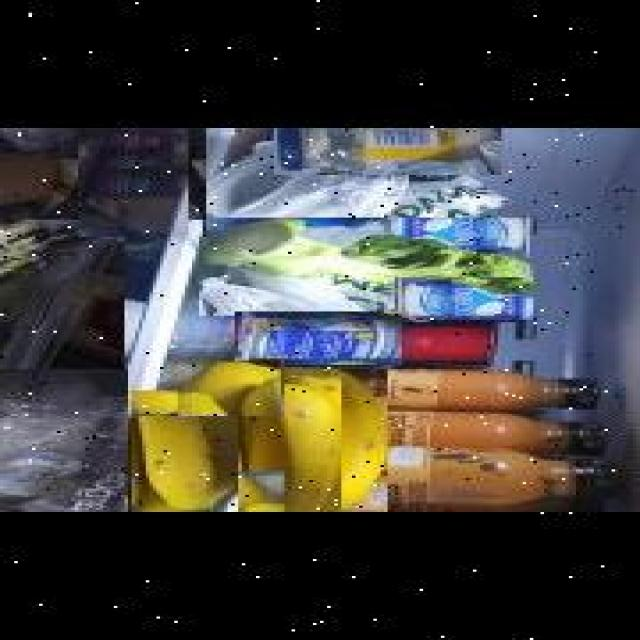asparagus: (0, 194, 164, 391)
banana: (274, 369, 384, 512), (128, 390, 245, 512), (235, 375, 338, 512), (173, 361, 279, 416)
broccoli: (196, 218, 534, 316)
cheese: (0, 369, 164, 512)
humus: (73, 128, 201, 237), (0, 128, 85, 219)
mayonaise: (270, 128, 498, 175)
yogurt: (231, 311, 398, 365), (391, 277, 530, 322)
